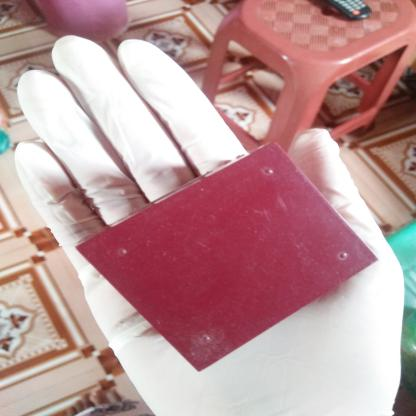gloved_hand: (11, 28, 406, 414)
